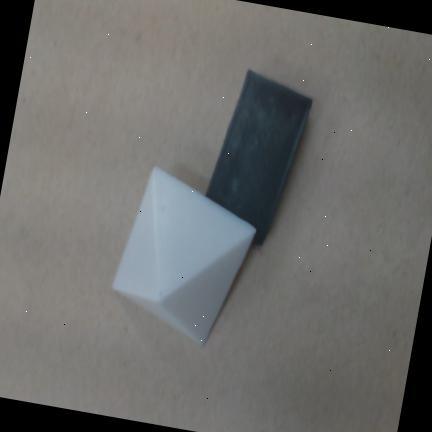Paralelepipedo: (206, 70, 313, 245)
Piramide: (110, 164, 257, 349)
